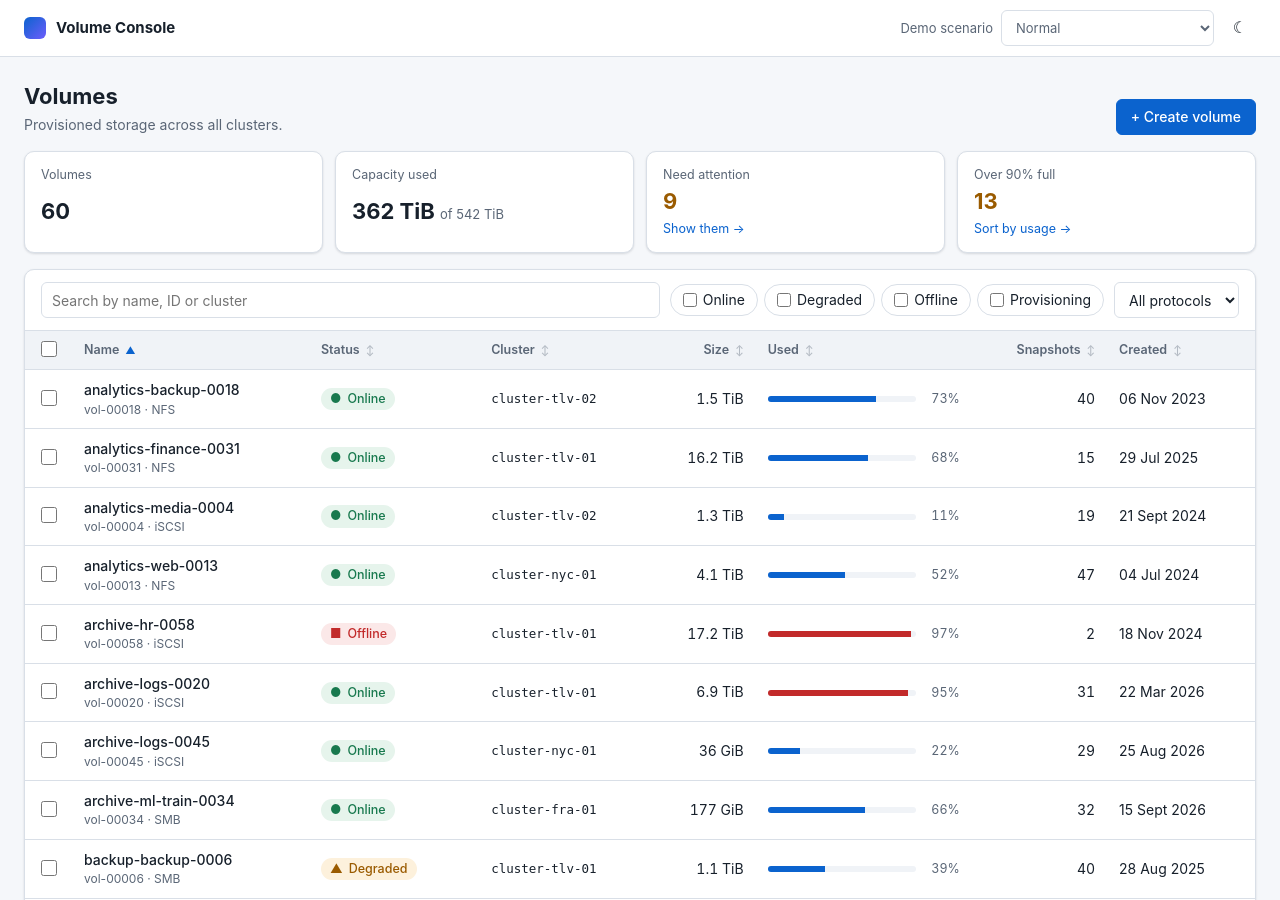
Test: Volume Console › shows an error state with retry, and recovers
Later steps or results of the test are not shown.
Select "Server down" in the dropdown labelled "Demo scenario" at point(1108, 28), box [1001,10,1214,46]
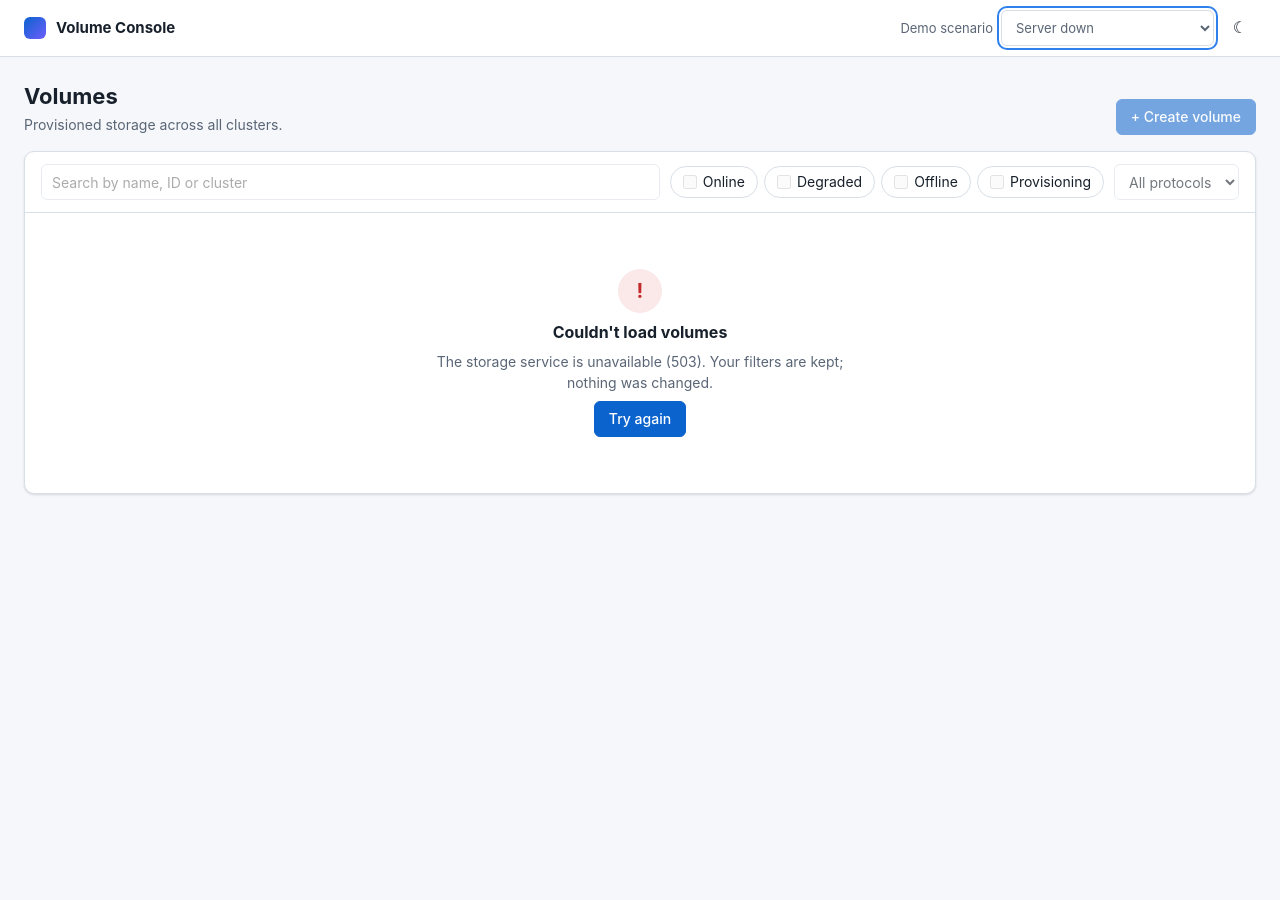
Check: the message shows "Couldn't load volumes", box [553,322,727,342]
